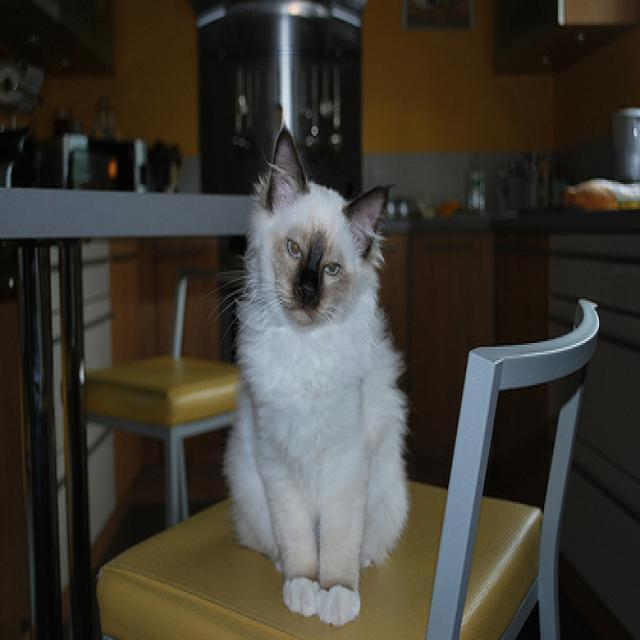Birman: (249, 115, 405, 337)
